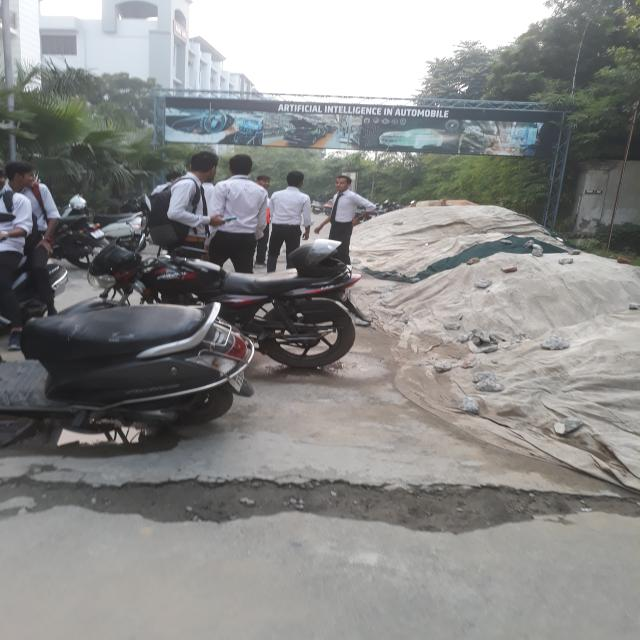unsafe: (168, 147, 219, 259), (217, 154, 261, 273), (261, 170, 312, 271), (320, 174, 370, 264)
